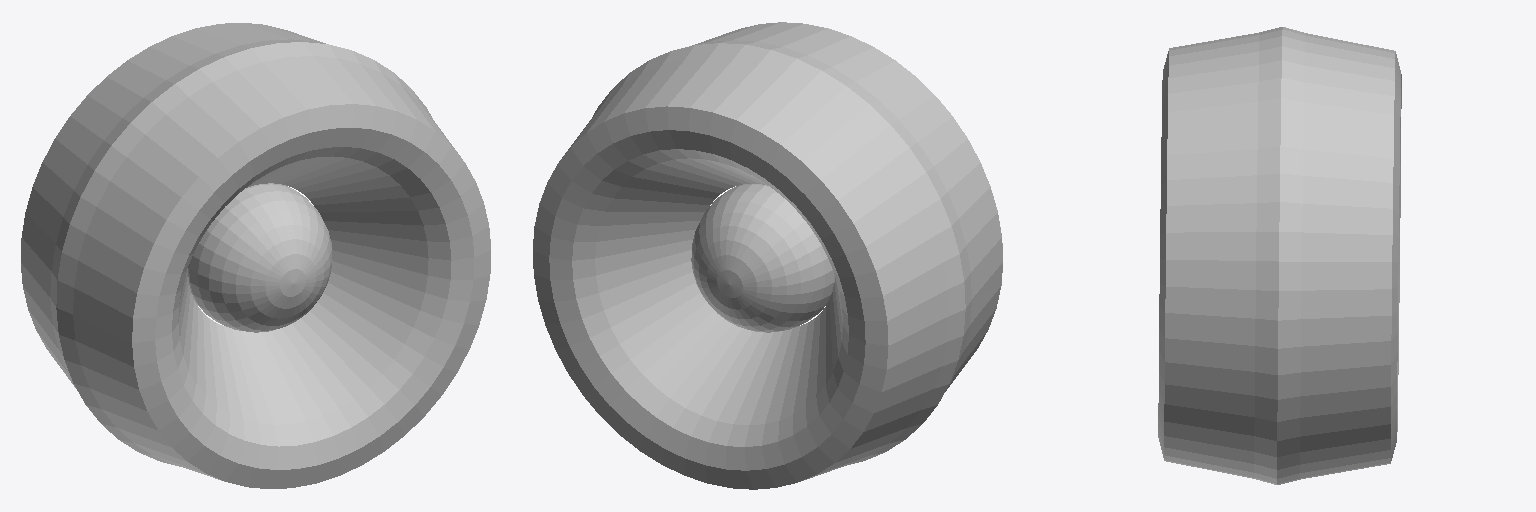
File: rueda_trasera_derecha.obj
3 renders of one model, left to right at view 1: azimuth 30°, elevation 25°; view 2: azimuth 150°, elevation 25°; view 3: azimuth 270°, elevation 25°, orthographic.
Visible parts, largest first — view 1: Torus.000_Torus.003; view 2: Torus.000_Torus.003; view 3: Torus.000_Torus.003.
Boxes of the visible parts, <box> form: Torus.000_Torus.003: <box>21,23,490,488</box>; Torus.000_Torus.003: <box>533,22,1002,489</box>; Torus.000_Torus.003: <box>1158,27,1401,484</box>.
Size of the model in its own units: 2.5 by 2.5 by 1.32.